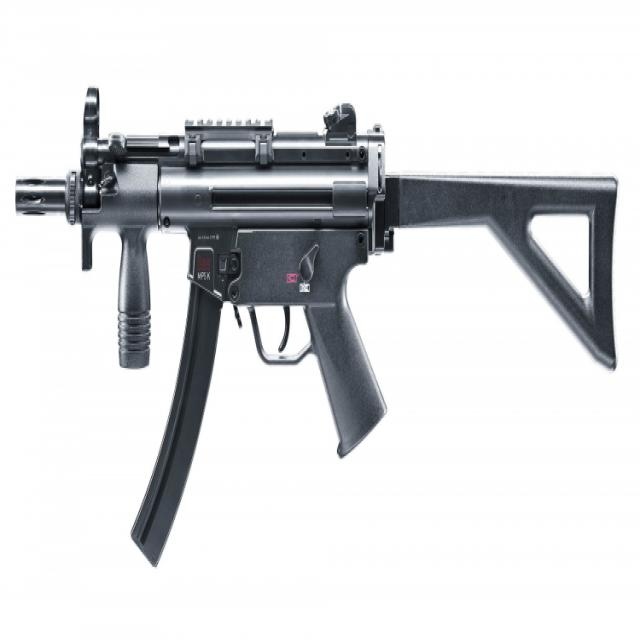SMG: (14, 87, 620, 570)
